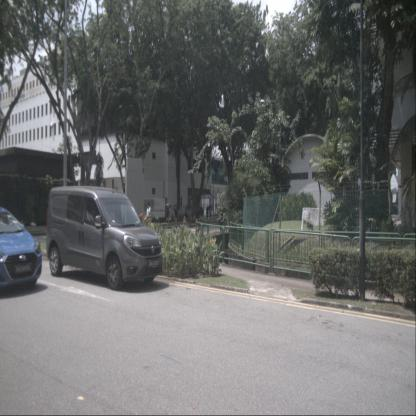human-pedestrian-adult: (146, 202, 151, 232), (168, 206, 172, 223), (165, 207, 169, 223), (175, 207, 178, 223), (185, 205, 188, 221), (206, 205, 209, 220), (209, 205, 212, 220), (173, 207, 175, 223)
vehicle-car: (46, 185, 164, 291), (0, 206, 43, 290)
